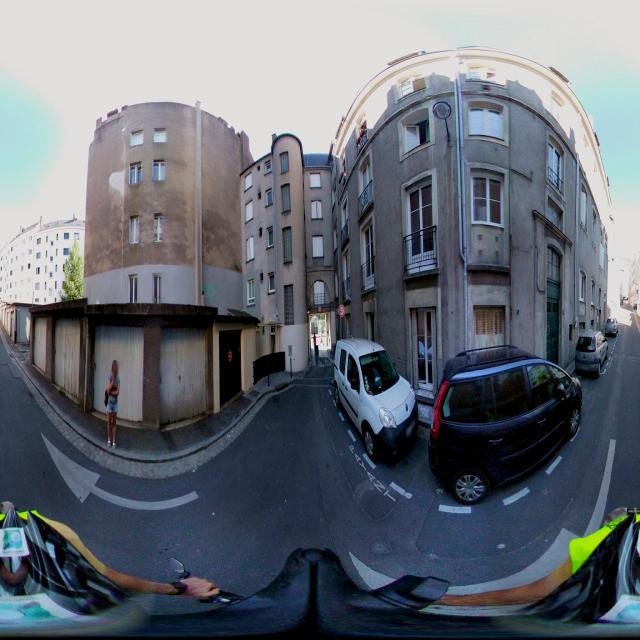car: (428, 351, 583, 519), (333, 337, 419, 461), (574, 330, 605, 378), (604, 316, 618, 338)
